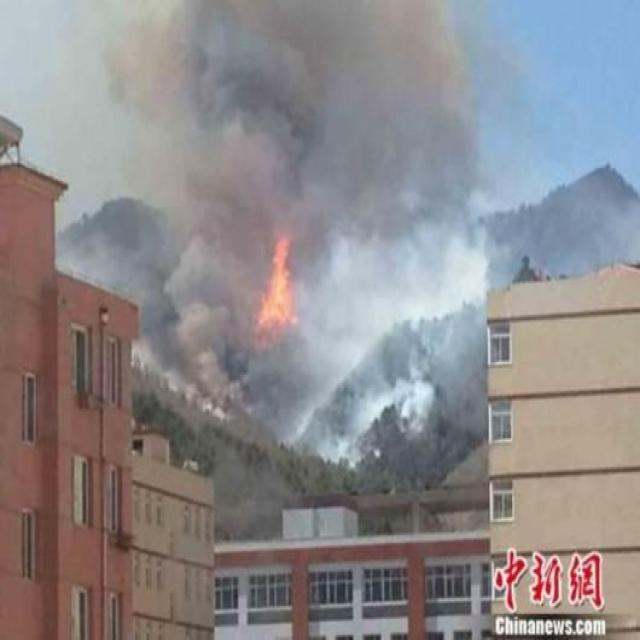fire: (260, 241, 303, 341)
smoke: (138, 3, 476, 214)
